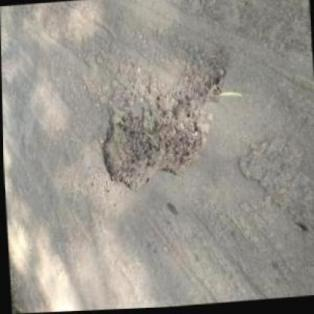Hueco: (97, 96, 212, 196)
